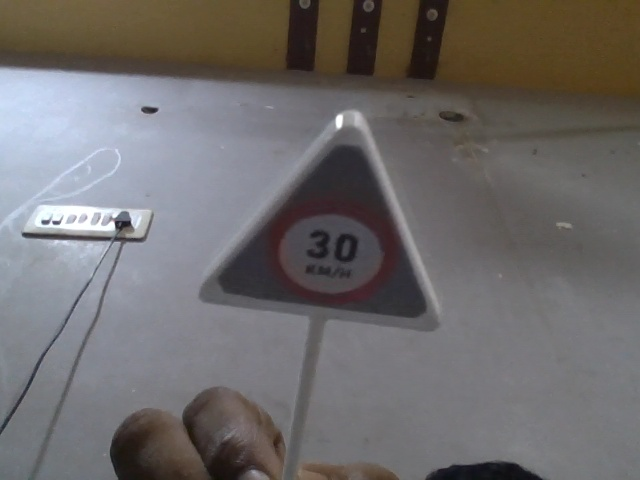speedlimit: (184, 73, 456, 329)
